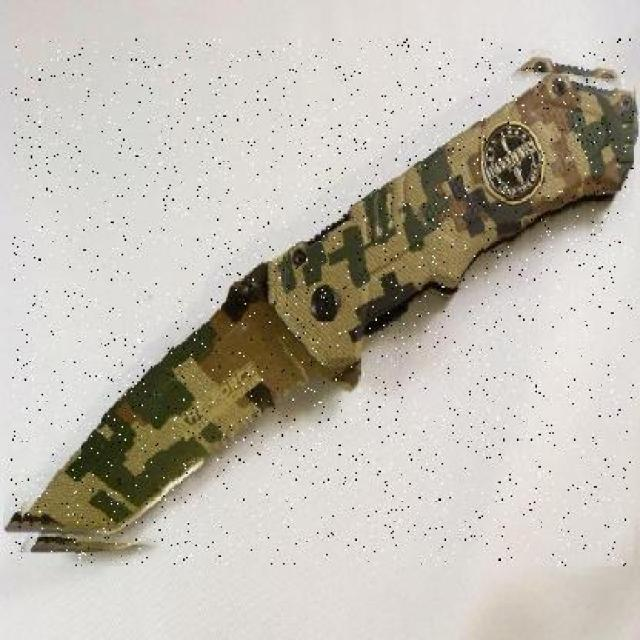knife: (11, 39, 634, 566)
